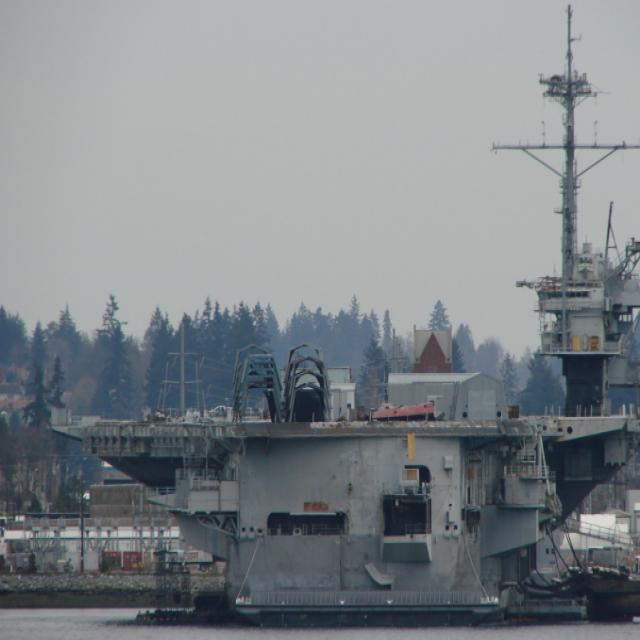Portanaves: (48, 6, 640, 621)
